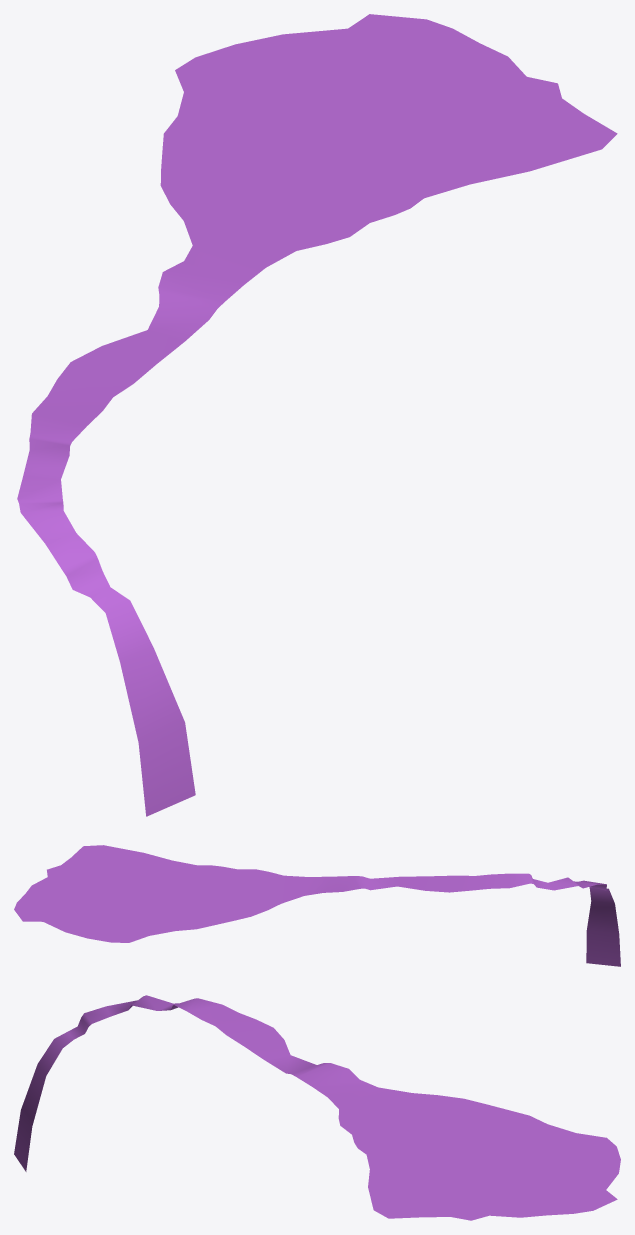
The model's file is cluster_22.fbx.
3 renders of one model, top to bottom at view 1: azimuth 30°, elevation 25°; view 2: azimuth 150°, elevation 25°; view 3: azimuth 270°, elevation 25°, orthographic. The views are drawn at different scales.
Parts seen in each view (by area): view 1: cluster_22; view 2: cluster_22; view 3: cluster_22.
Part boxes in pixels (<box>): cluster_22: <box>17,14,617,816</box>; cluster_22: <box>14,845,620,966</box>; cluster_22: <box>14,995,620,1220</box>.
Size of the model in its own units: 537263 by 176173 by 562888.
